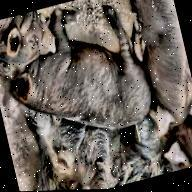boar: (0, 0, 160, 159)
